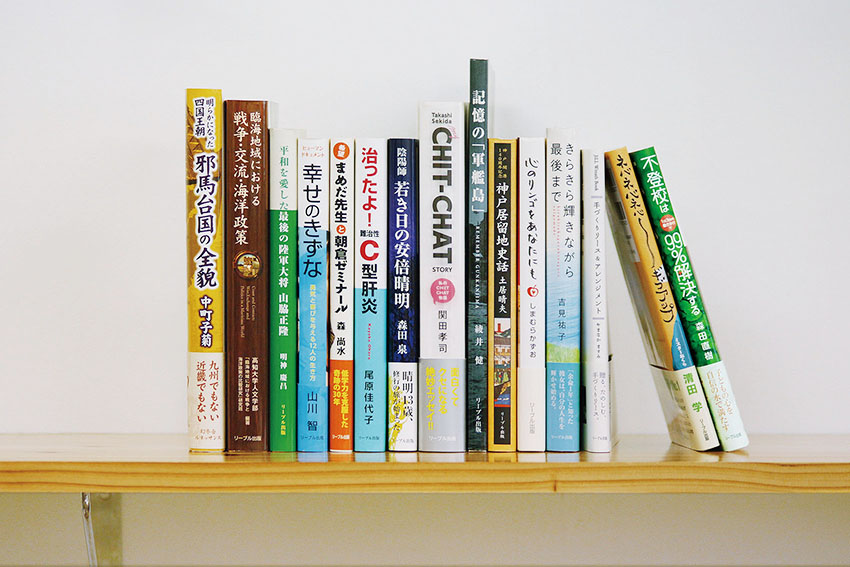book: (221, 97, 273, 457), (417, 97, 468, 455), (182, 82, 225, 460), (543, 136, 582, 457), (351, 135, 389, 460), (385, 133, 422, 454), (264, 137, 301, 456), (484, 133, 520, 459), (295, 133, 330, 455), (514, 129, 548, 453), (466, 54, 492, 450), (326, 136, 358, 456), (579, 146, 611, 456)
